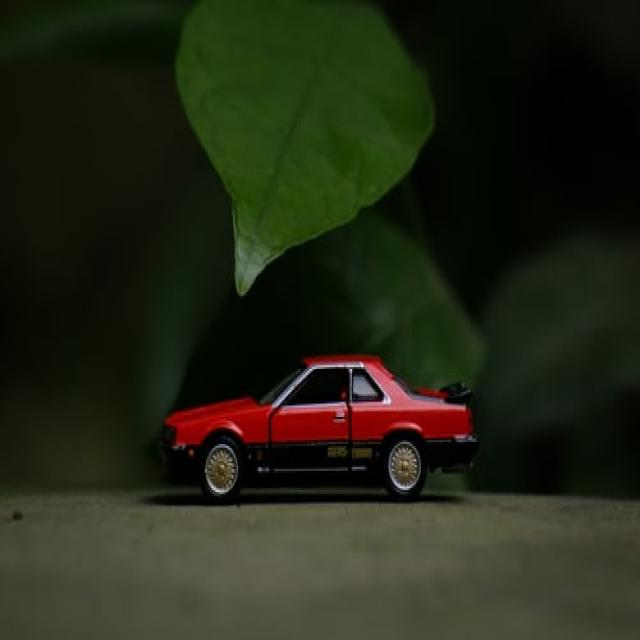Car: (157, 352, 479, 502)
